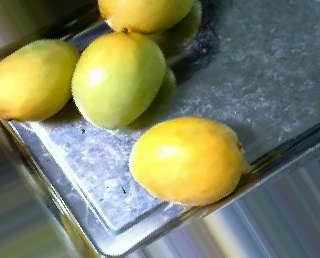Mango: (130, 117, 244, 205), (70, 31, 166, 129), (0, 37, 80, 121), (99, 0, 194, 35)
